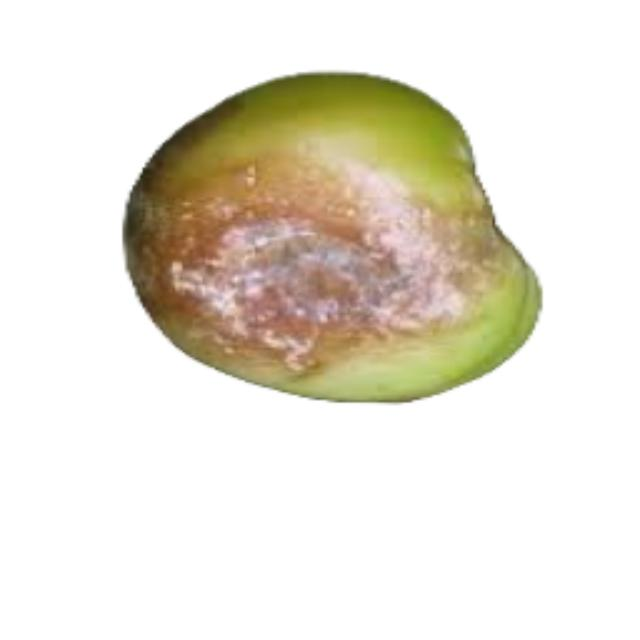defect: (125, 69, 548, 408)
